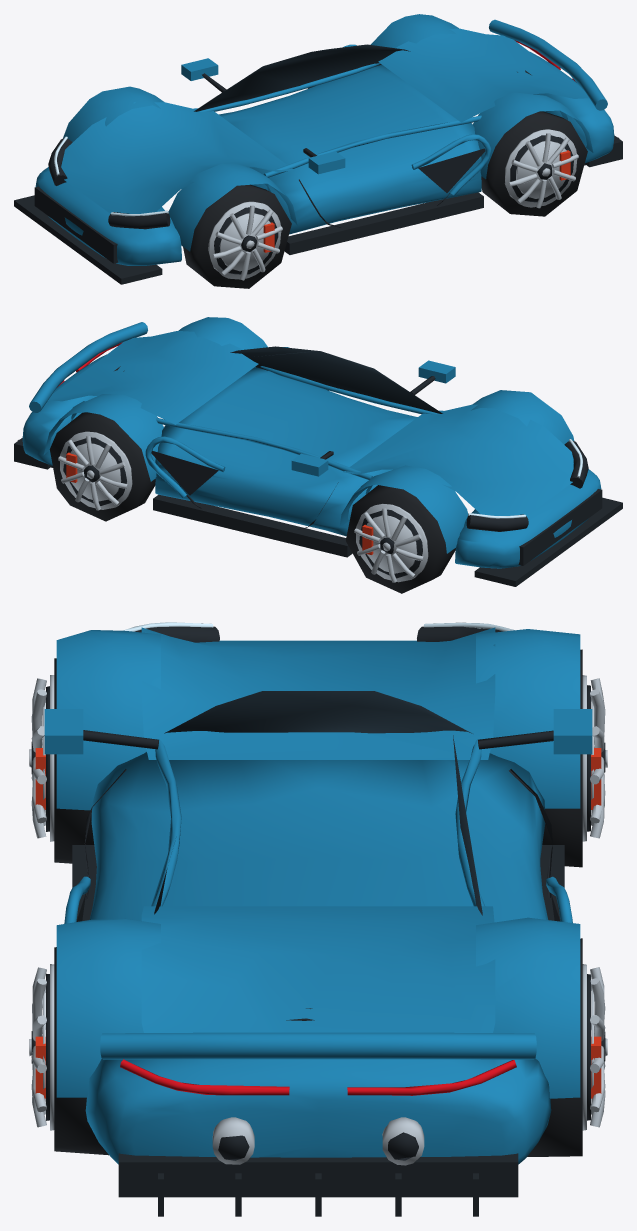
Rendered from car4.glb.
3 views of the same model, one above another, from view 1: azimuth 30°, elevation 25°; view 2: azimuth 150°, elevation 25°; view 3: azimuth 270°, elevation 25° (orthographic). The views are drawn at different scales.
Parts seen in each view (by area): view 1: Continuous sculpted coachwork, Sculpted wheel arch, Door precision seam, Performance tire, Alloy rim, Teardrop panoramic canopy, Side intake recess, Red brake caliper; view 2: Continuous sculpted coachwork, Sculpted wheel arch, Door precision seam, Performance tire, Alloy rim, Teardrop panoramic canopy, Side intake recess, Red brake caliper; view 3: Sculpted wheel arch, Continuous sculpted coachwork, Door precision seam, Alloy rim, Teardrop panoramic canopy, Performance tire, Rear light strip, Red brake caliper, LED blade.
Boxes of the visible parts, x1,y1,x2,y2 form: Continuous sculpted coachwork: [35, 19, 614, 265]; Sculpted wheel arch: [61, 14, 593, 251]; Door precision seam: [14, 70, 622, 284]; Performance tire: [183, 111, 587, 288]; Alloy rim: [208, 129, 578, 280]; Teardrop panoramic canopy: [194, 44, 410, 111]; Side intake recess: [307, 86, 485, 192]; Red brake caliper: [263, 150, 570, 252]; Continuous sculpted coachwork: [22, 322, 601, 568]; Sculpted wheel arch: [43, 317, 574, 553]; Door precision seam: [14, 366, 622, 586]; Performance tire: [49, 412, 455, 593]; Alloy rim: [58, 431, 428, 582]; Teardrop panoramic canopy: [230, 346, 442, 413]; Side intake recess: [151, 390, 328, 495]; Red brake caliper: [66, 452, 373, 554]; Sculpted wheel arch: [56, 627, 580, 1098]; Continuous sculpted coachwork: [44, 709, 592, 1164]; Door precision seam: [31, 626, 605, 1216]; Alloy rim: [29, 675, 607, 1165]; Teardrop panoramic canopy: [154, 691, 482, 915]; Performance tire: [54, 649, 582, 1156]; Rear light strip: [120, 1059, 516, 1095]; Red brake caliper: [35, 748, 601, 1098]; LED blade: [123, 622, 514, 631].
Bounding box in the file's own units: 4.88 × 1.3 × 2.39.
